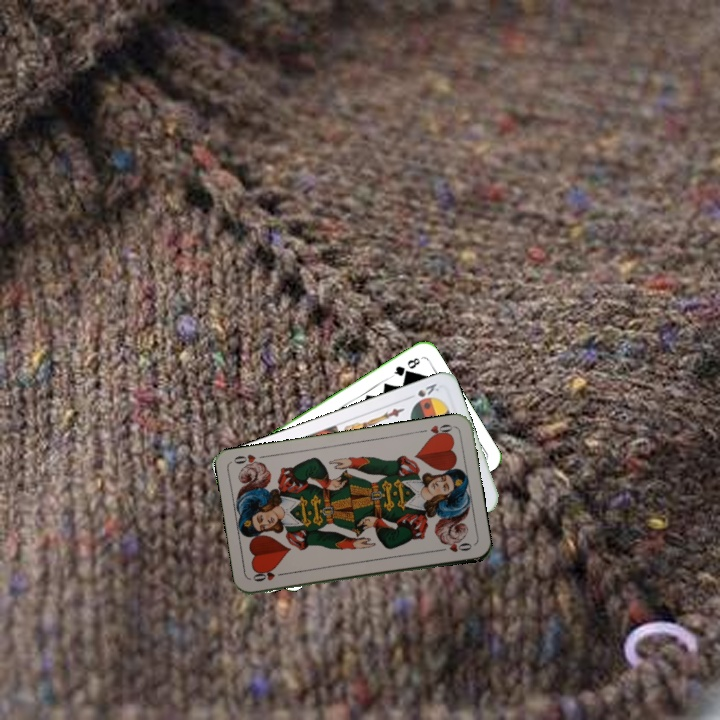G8: (387, 353, 423, 380)
HO: (416, 420, 456, 441), (249, 568, 288, 584)
SK: (413, 379, 442, 400)
